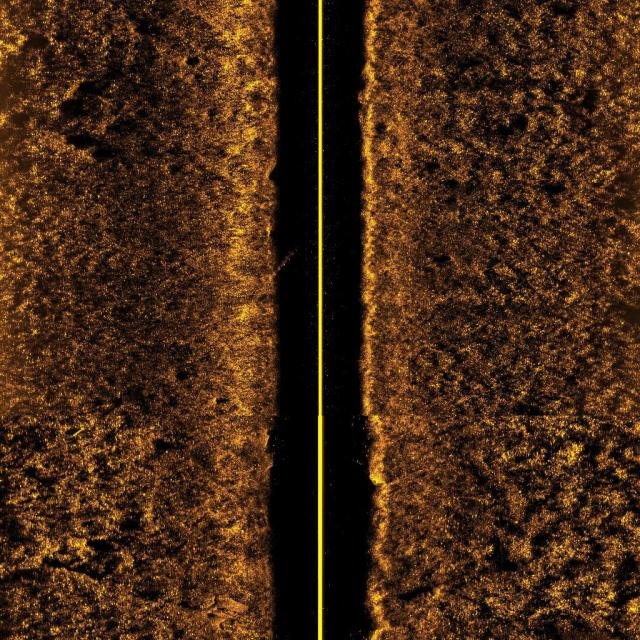mine: (64, 421, 86, 441)
